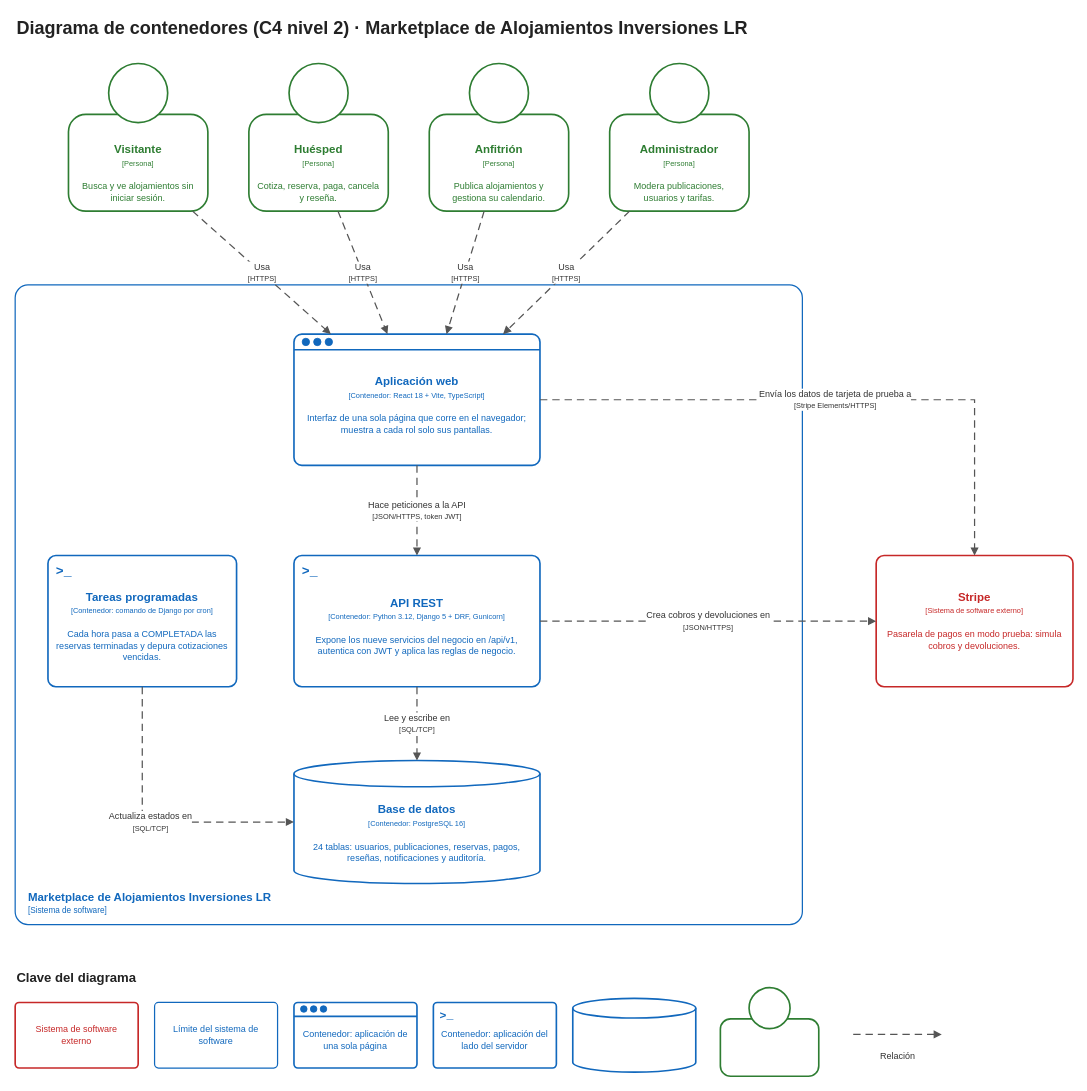
Image size: 1087x1091. Some labels were removed from this diagram. The shapes that lost their labels are listed below. From the top down, each one's centre as x and y in pixels, then its label:
the point at 634,1035: Contenedor: base de datos relacional
the point at 769,1047: Persona
